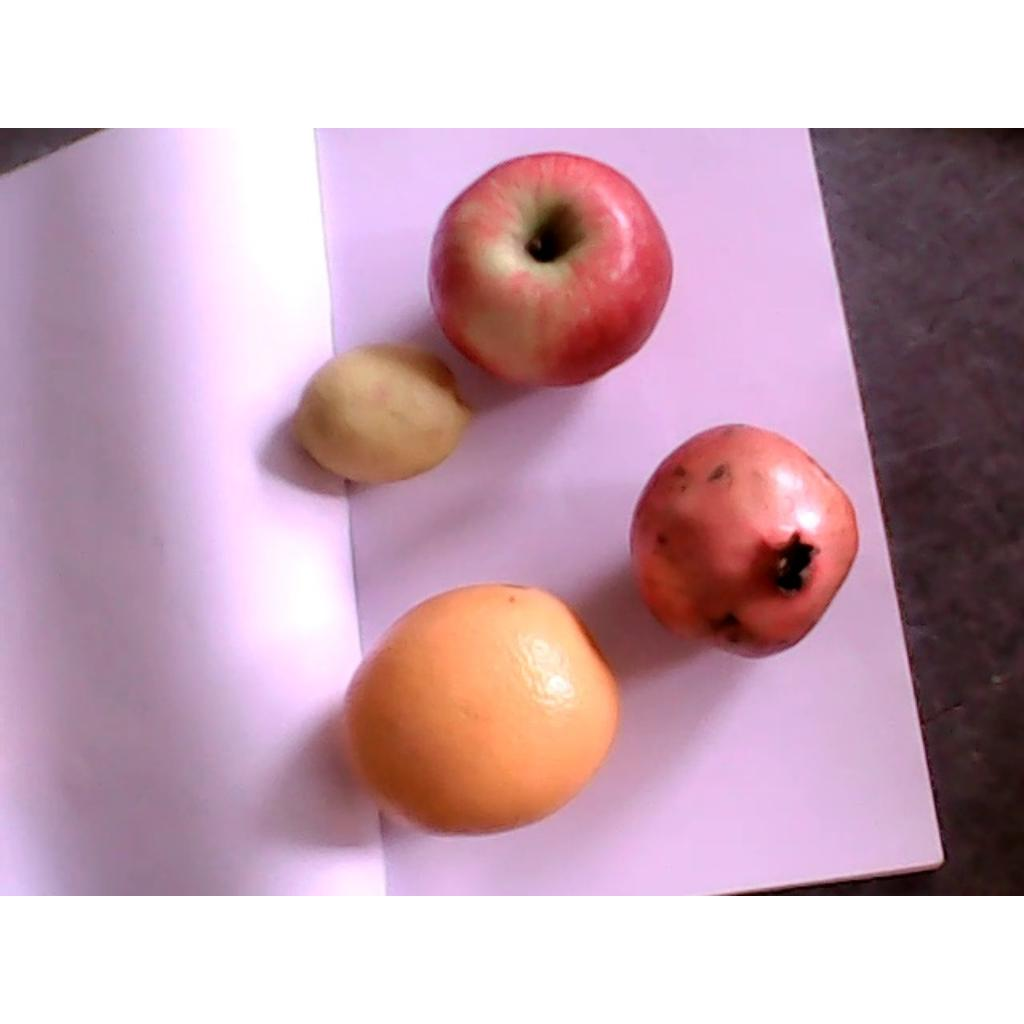apple: (429, 154, 674, 385)
lemon: (288, 344, 474, 483)
orange: (342, 584, 620, 834)
pomegranate: (626, 422, 861, 658)
